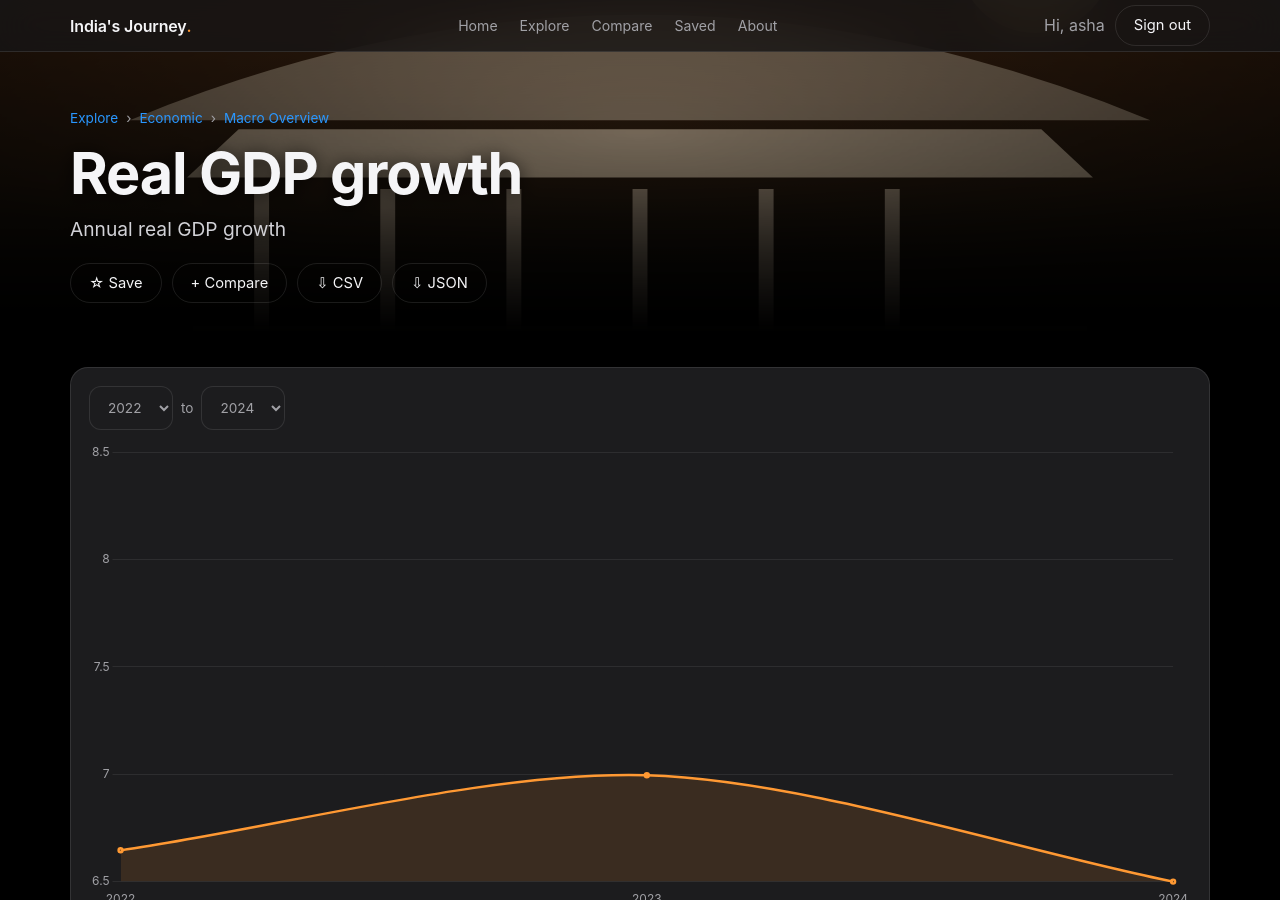
Indicator detail › saves and unsaves for signed-in users
Check: the text "Hi, asha" is shown, box [1044,14,1105,38]
Click the button "☆ Save".
click(116, 283)  # box [70,263,162,303]
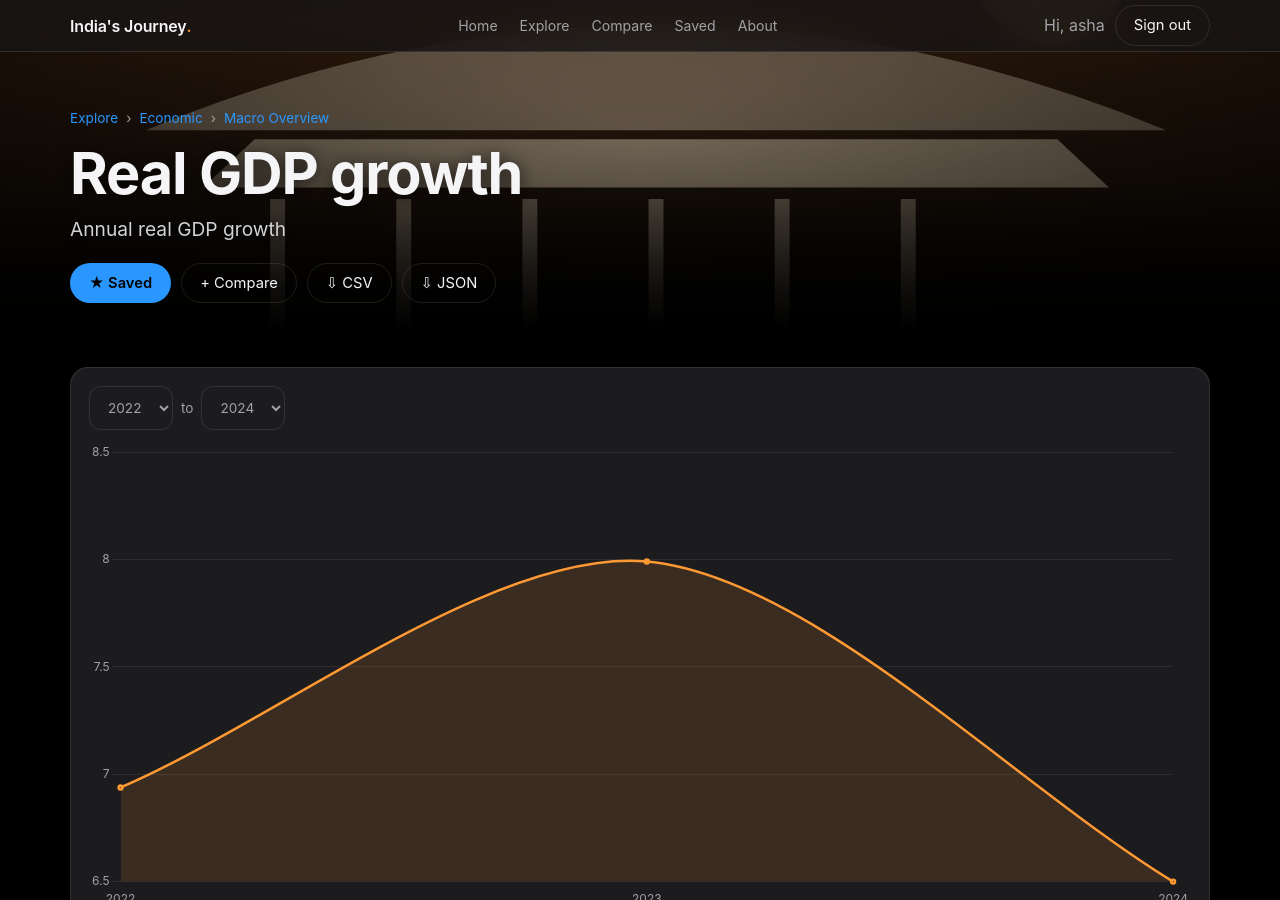
Check: the button "★ Saved" is pressed
Click the button "★ Saved".
click(121, 283)  # box [70,263,171,303]
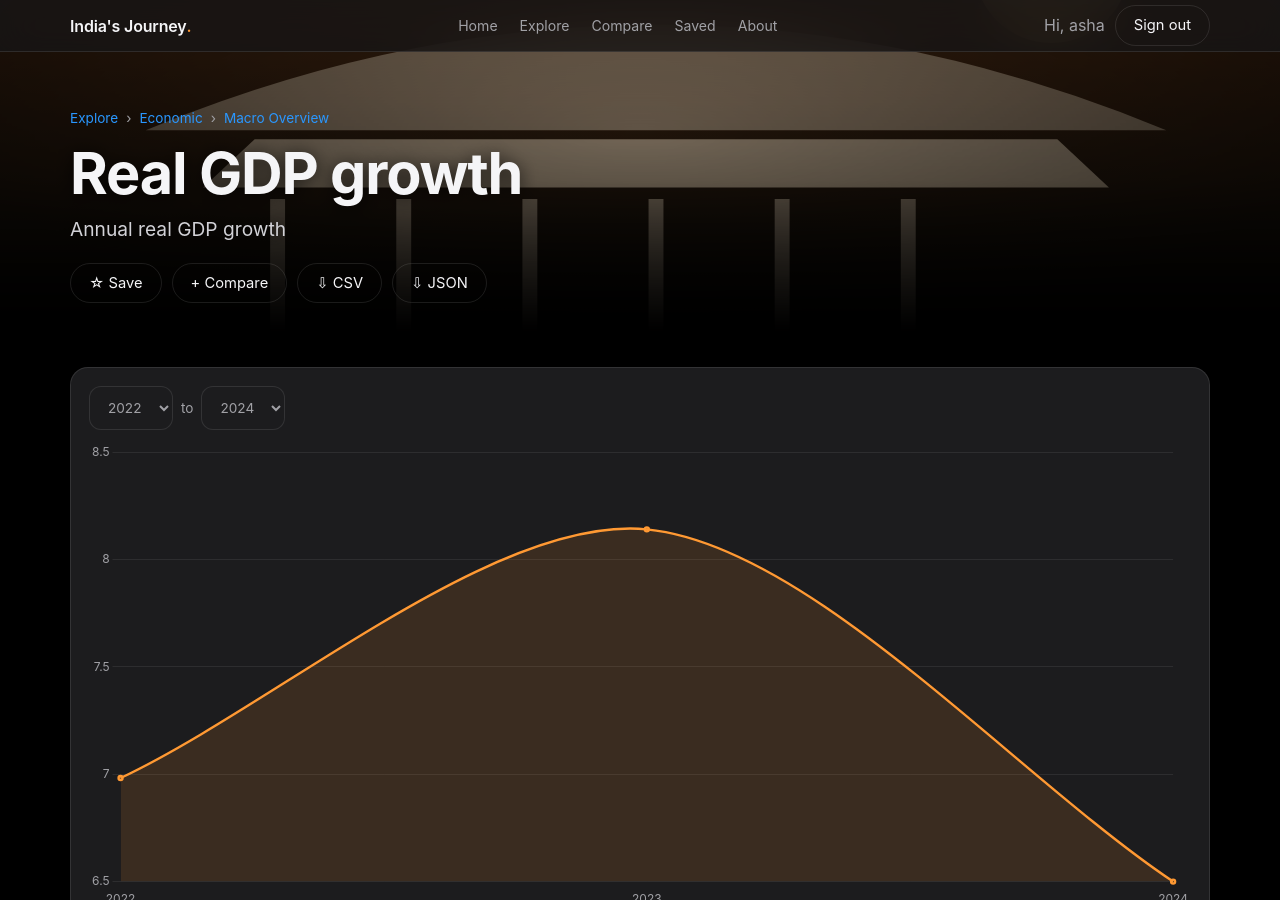
Check: the button "☆ Save" is shown, box [70,263,162,303]
